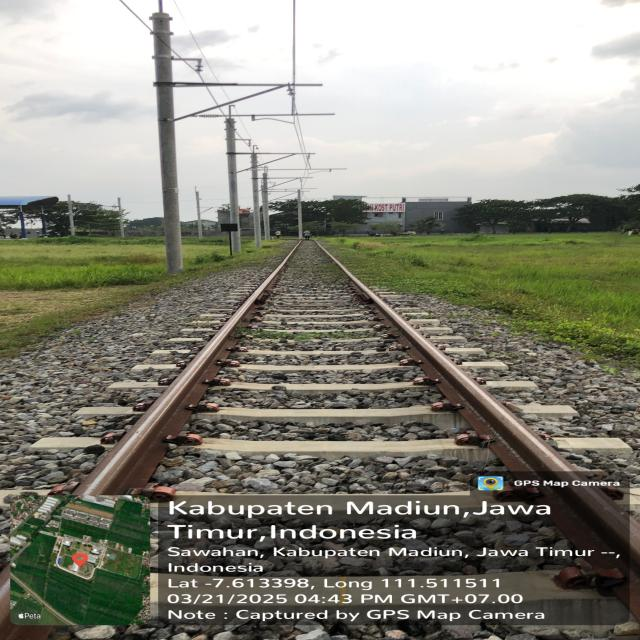rail-detection: (319, 246, 640, 620), (76, 251, 293, 495)
